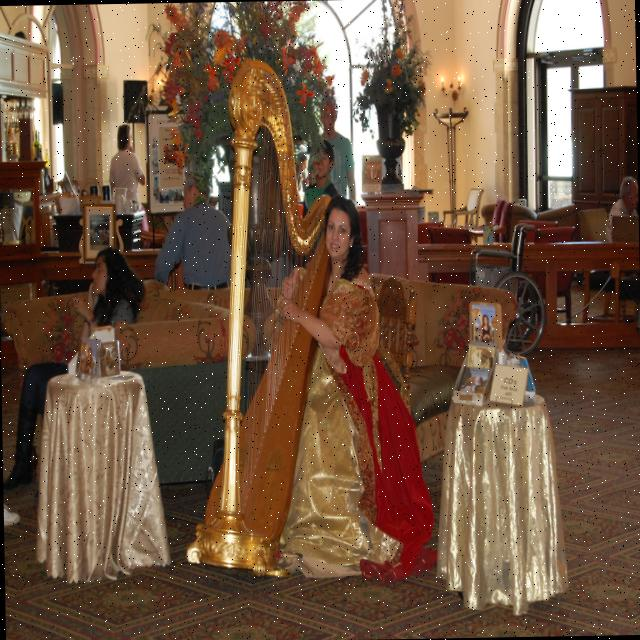harp: (177, 53, 342, 584)
